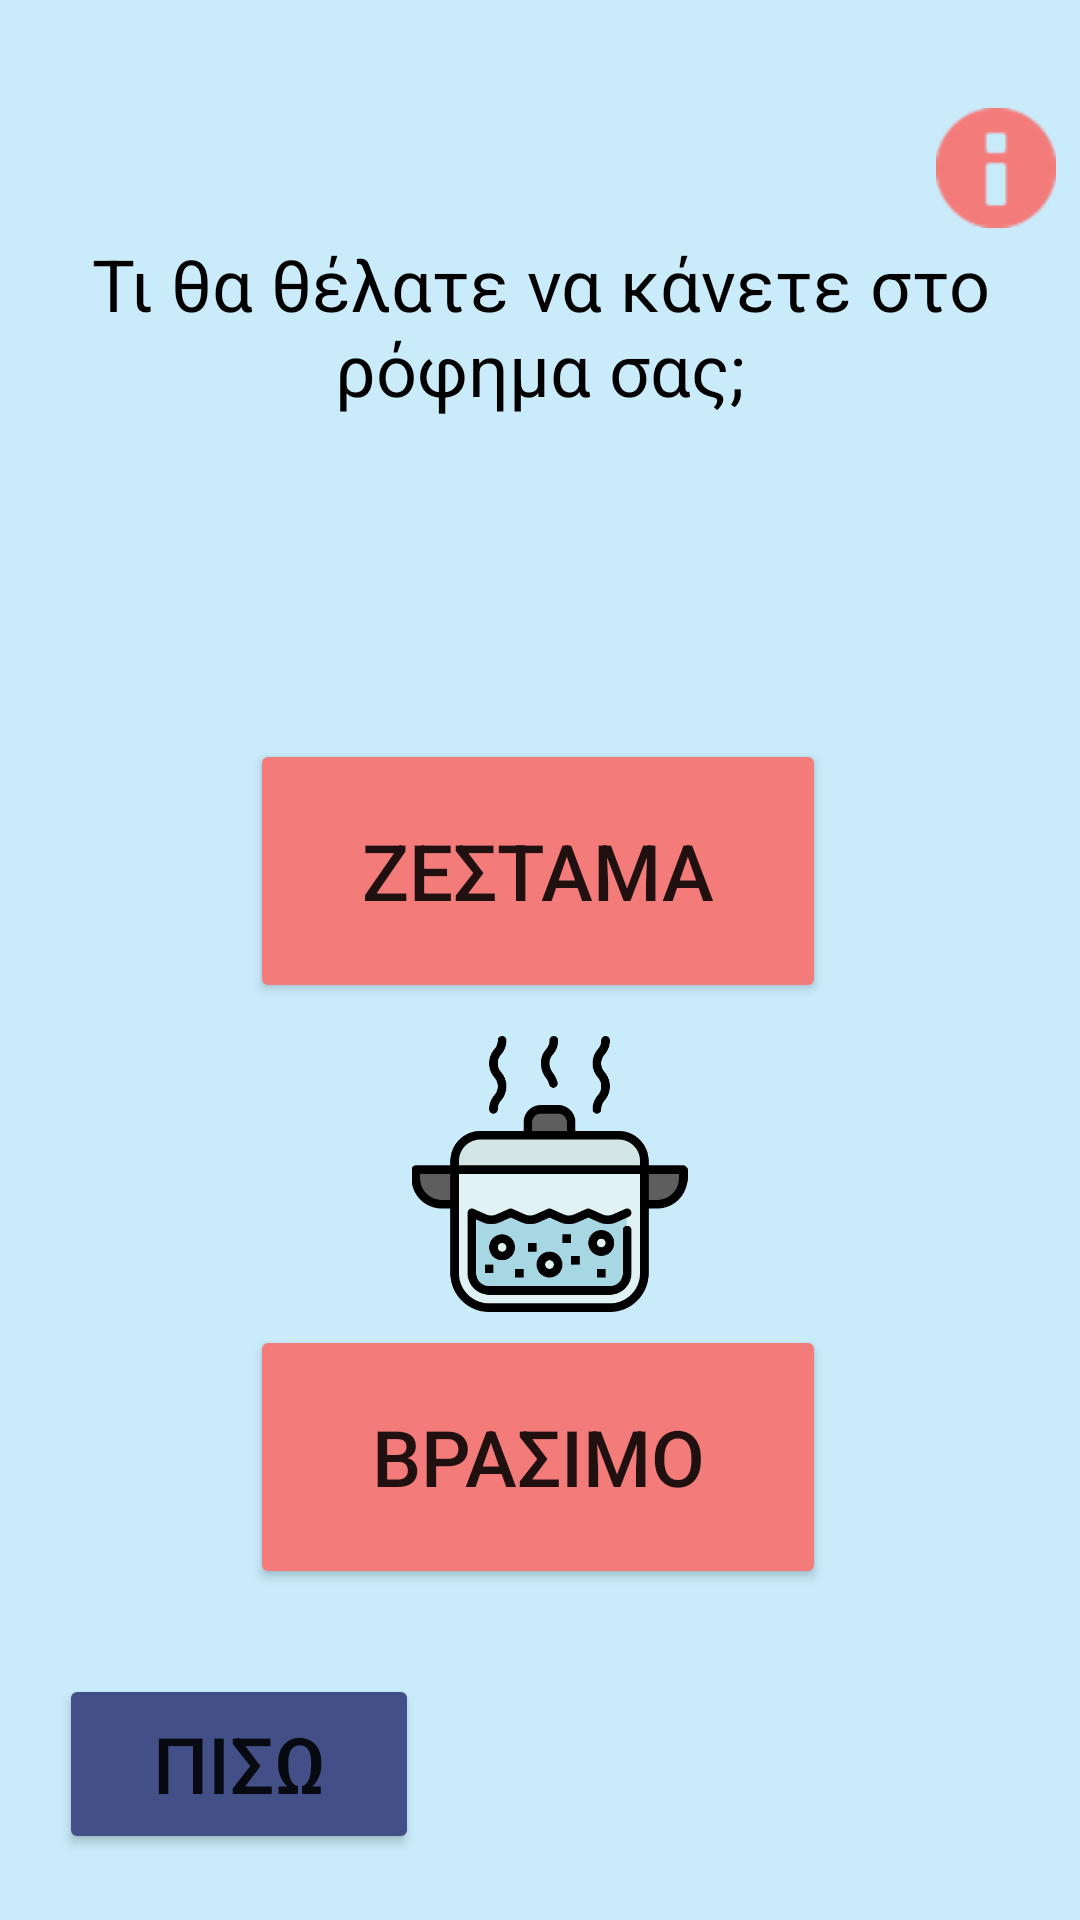

Icon click points for this 1080 x 1920 phone screenshot, format [x,y]:
boiling: [550,1174]
info: [996,168]
